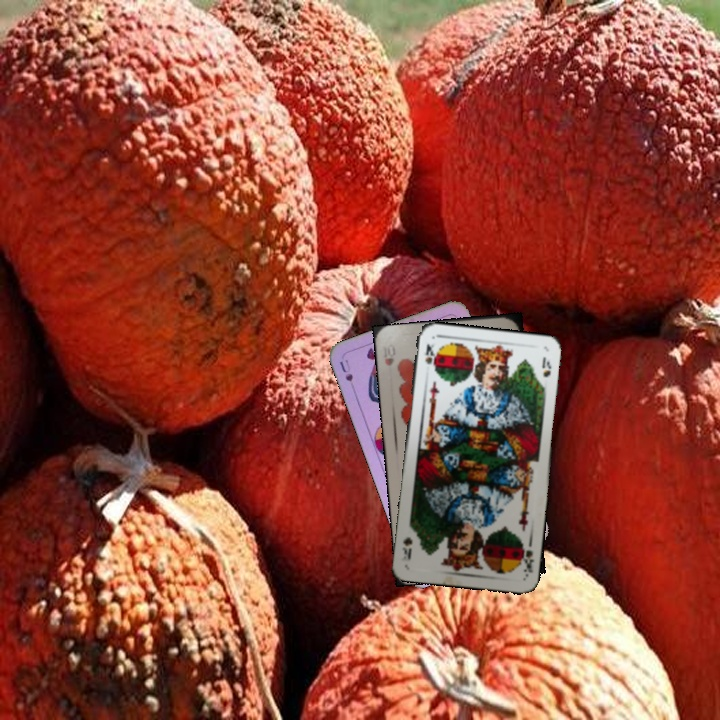H10: (380, 340, 398, 368)
SK: (516, 539, 536, 578), (421, 340, 437, 369)
SU: (335, 355, 355, 384)
